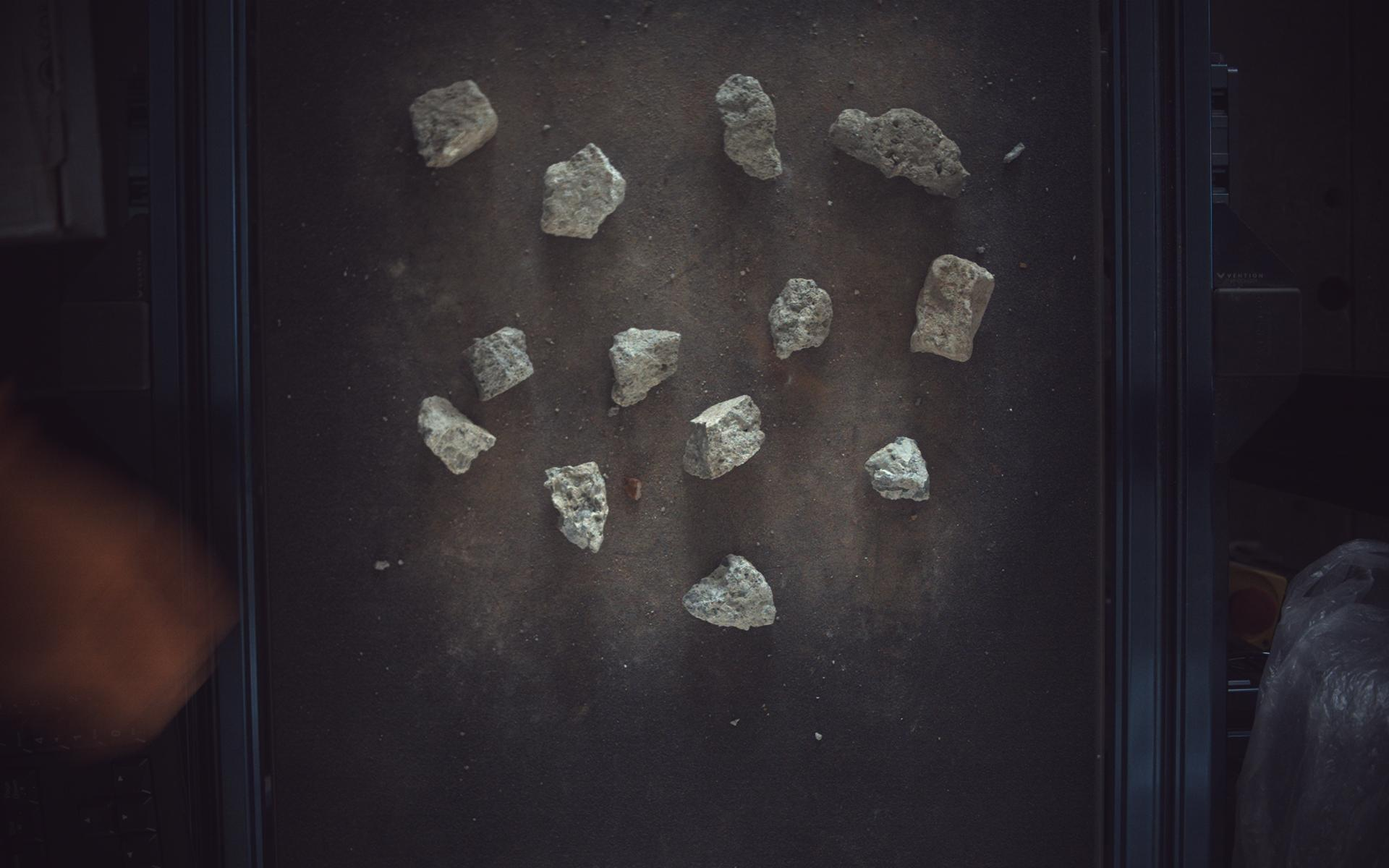concrete: (831, 107, 971, 197), (912, 254, 996, 362), (541, 142, 626, 238), (409, 79, 498, 167), (716, 72, 784, 179), (684, 555, 777, 631), (684, 395, 765, 480), (419, 396, 496, 475), (545, 462, 609, 553), (611, 328, 681, 407), (464, 326, 535, 401), (770, 278, 835, 359), (867, 437, 932, 502)
